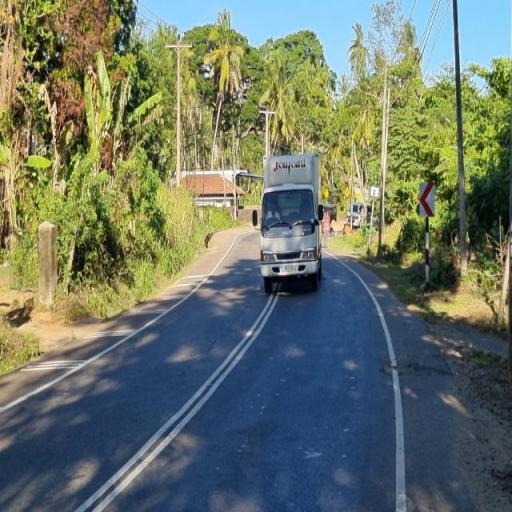double_white_line: (72, 291, 277, 512)
